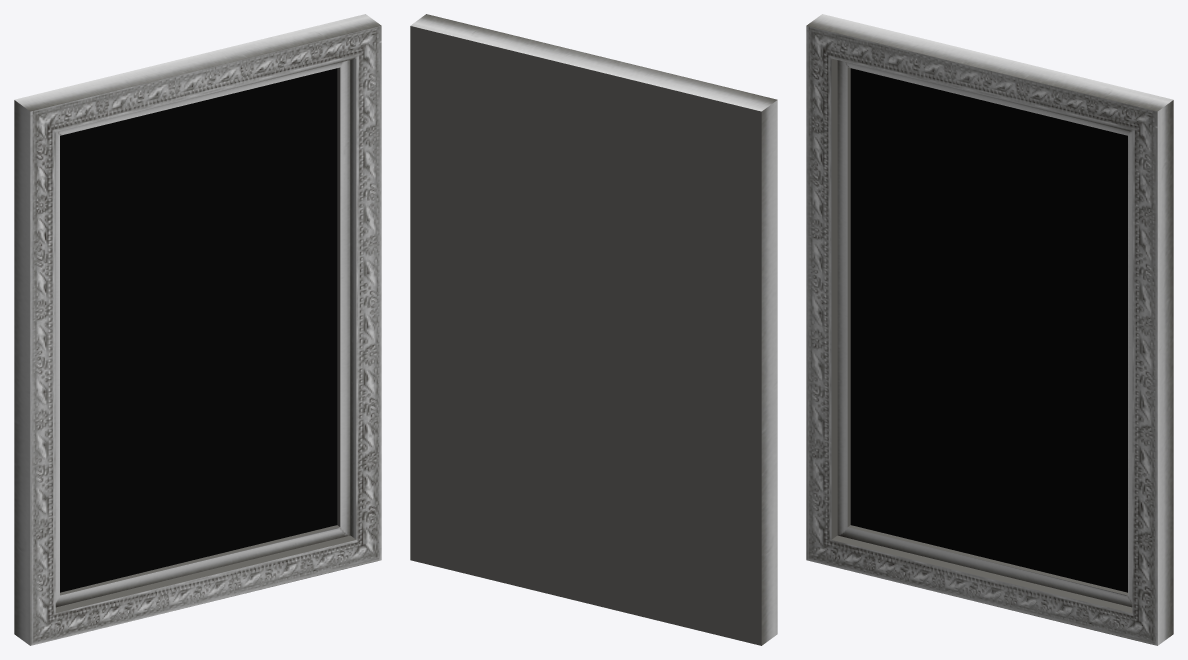
Rendered from 41 Photo Frame.fbx.
The picture shows the model from 3 angles, left to right: view 1: azimuth 30°, elevation 25°; view 2: azimuth 150°, elevation 25°; view 3: azimuth 330°, elevation 25°; orthographic projection.
Visible parts, largest first — view 1: Object002, Box002; view 2: Box002; view 3: Object002, Box002.
Boxes of the visible parts, <box> form: Object002: <box>60,68,337,592</box>; Box002: <box>14,14,381,645</box>; Box002: <box>410,14,777,645</box>; Object002: <box>850,68,1127,592</box>; Box002: <box>806,14,1173,645</box>.
Size of the model in its own units: 530 by 770 by 42.26.
Materials: 1 (1 with a texture image).
